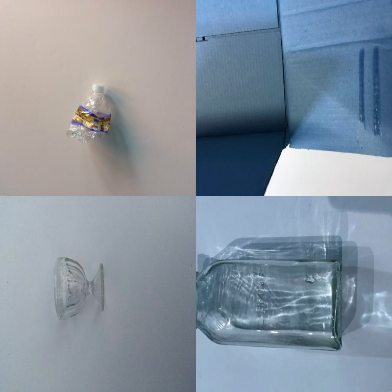cardboard: (196, 1, 392, 195)
glass: (197, 259, 344, 351), (53, 256, 105, 320)
plastic: (64, 84, 114, 144)
